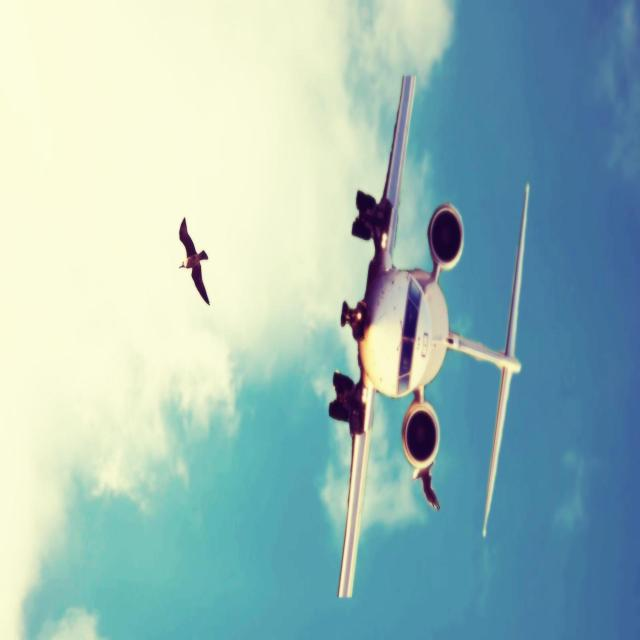airplane: (327, 72, 530, 598)
